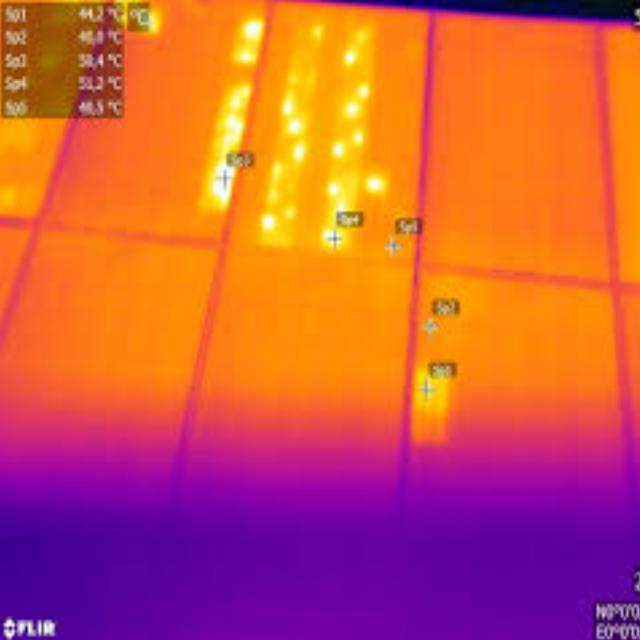hotspot group: (308, 21, 395, 249), (257, 20, 332, 241), (195, 10, 270, 216), (404, 358, 459, 453)
panel with hotspots: (403, 273, 631, 541), (39, 0, 276, 243), (224, 0, 437, 270)
